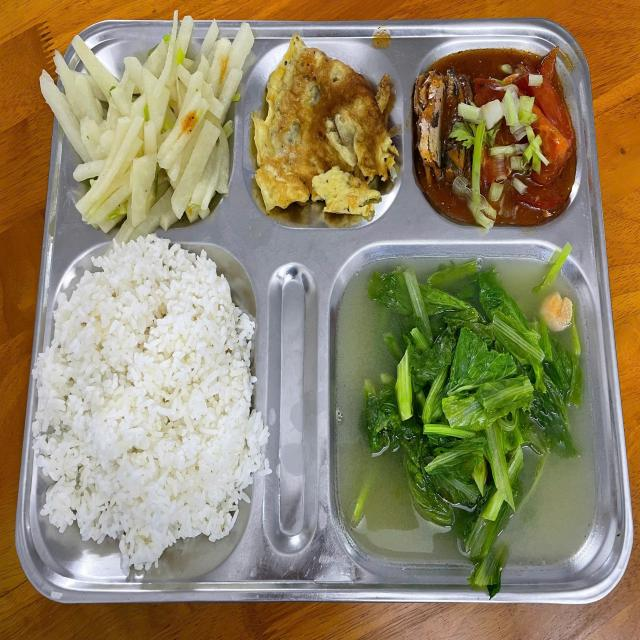cahoi: (412, 49, 578, 224)
canhrau: (331, 256, 598, 568)
khoailuoc: (45, 23, 241, 223)
salad: (33, 244, 262, 576)
trungluoc: (255, 50, 397, 225)
